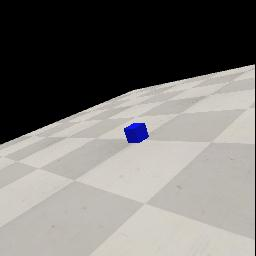box: (124, 123, 149, 143)
